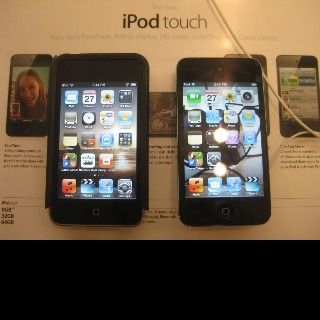without_mask: (14, 69, 47, 118)
